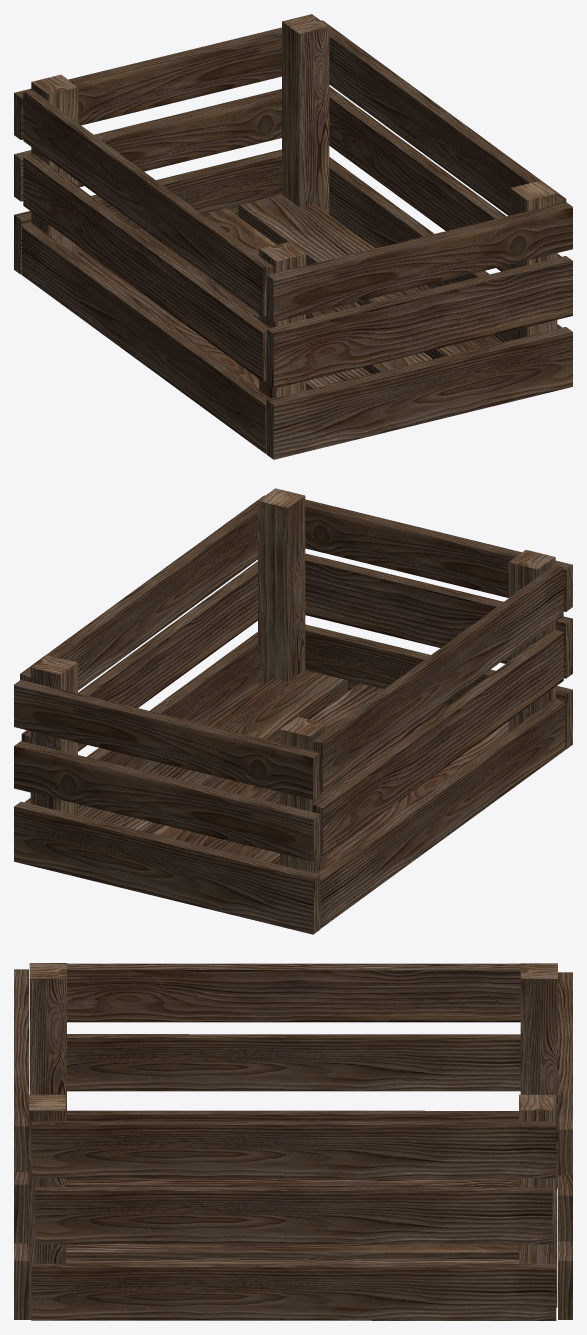
File: storage_box_06.fbx
3 views of the same model, one above another, from view 1: azimuth 30°, elevation 25°; view 2: azimuth 150°, elevation 25°; view 3: azimuth 270°, elevation 25° (orthographic). The views are drawn at different scales.
Visible parts, largest first — view 1: storage_box_06; view 2: storage_box_06; view 3: storage_box_06.
Part boxes in pixels (x1,y1,x2,y2): storage_box_06: [14, 14, 572, 459]; storage_box_06: [14, 488, 572, 934]; storage_box_06: [14, 963, 572, 1320].
Size of the model in its own units: 61.17 by 37.63 by 91.09.
